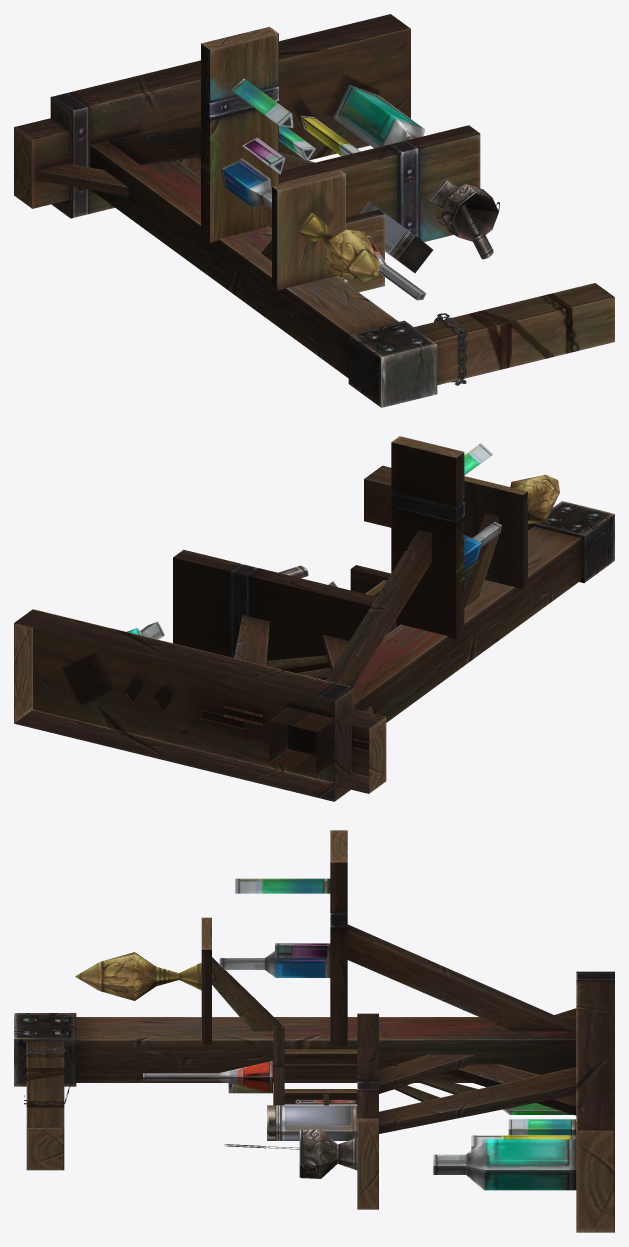
Rendered from tanxian_fuben_257_lianjinfang_09.obj.
3 renders of one model, top to bottom at view 1: azimuth 30°, elevation 25°; view 2: azimuth 150°, elevation 25°; view 3: azimuth 270°, elevation 25°, orthographic. The views are drawn at different scales.
Visible parts, largest first — view 1: tanxian_fuben_257_lianjinfang_09; view 2: tanxian_fuben_257_lianjinfang_09; view 3: tanxian_fuben_257_lianjinfang_09.
Boxes of the visible parts, left/top/right/bottom form: tanxian_fuben_257_lianjinfang_09: left=14, top=14, right=614, bottom=407; tanxian_fuben_257_lianjinfang_09: left=14, top=436, right=614, bottom=801; tanxian_fuben_257_lianjinfang_09: left=14, top=830, right=614, bottom=1232.
Bounding box in the file's own units: 86.44 × 57.31 × 125.
1 material, 1 textured.
